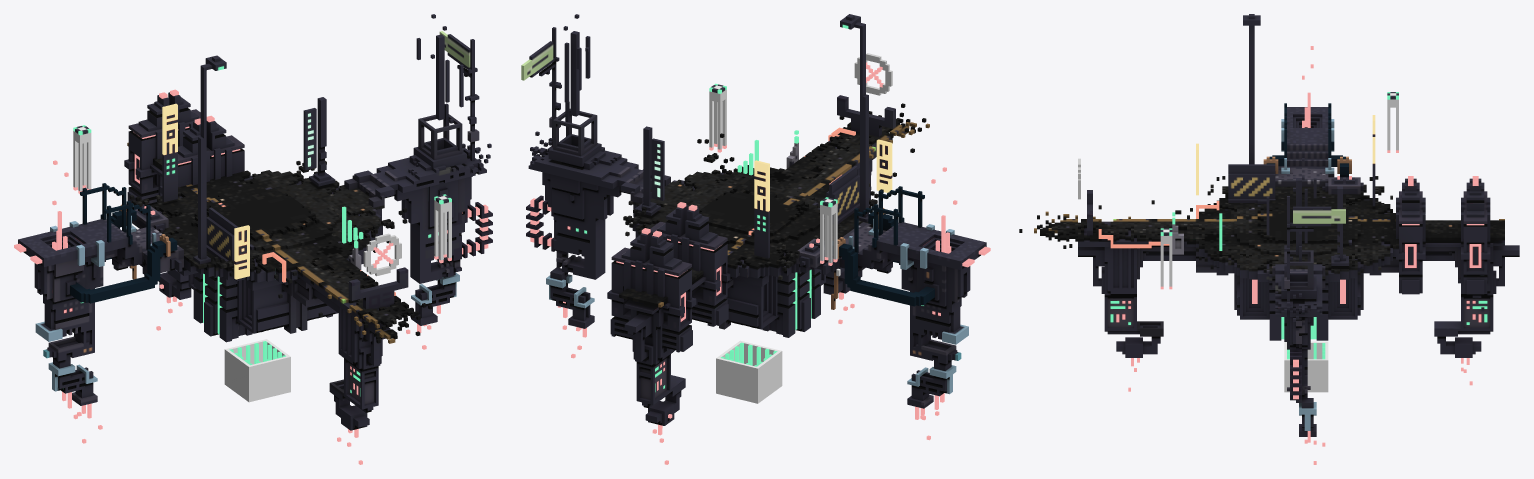
Rendered from street.glb.
The picture shows the model from 3 angles, left to right: view 1: azimuth 30°, elevation 25°; view 2: azimuth 150°, elevation 25°; view 3: azimuth 270°, elevation 25°; orthographic projection. The views are drawn at different scales.
Visible parts, largest first — view 1: Emission_ObjObject.002; view 2: Emission_ObjObject.002; view 3: Emission_ObjObject.002.
Boxes of the visible parts, left/top/right/bottom form: Emission_ObjObject.002: left=14, top=14, right=492, bottom=464; Emission_ObjObject.002: left=521, top=14, right=990, bottom=464; Emission_ObjObject.002: left=1019, top=14, right=1519, bottom=464.
Bounding box in the file's own units: 16.3 × 12.9 × 17.
Materials: 8 (1 with a texture image).
